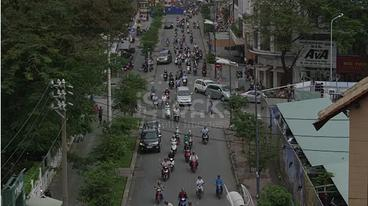car: (138, 116, 163, 159), (205, 82, 240, 103), (175, 84, 194, 109), (194, 76, 214, 94), (156, 48, 172, 67)
motorcycle: (153, 181, 166, 206), (159, 162, 173, 183), (188, 156, 200, 175), (200, 128, 212, 146), (177, 191, 190, 206), (168, 139, 180, 155), (215, 180, 225, 199), (184, 133, 196, 147), (196, 181, 205, 199), (183, 146, 192, 162), (173, 110, 182, 124), (152, 96, 160, 111), (165, 106, 172, 121), (161, 95, 168, 108), (174, 128, 181, 139)
